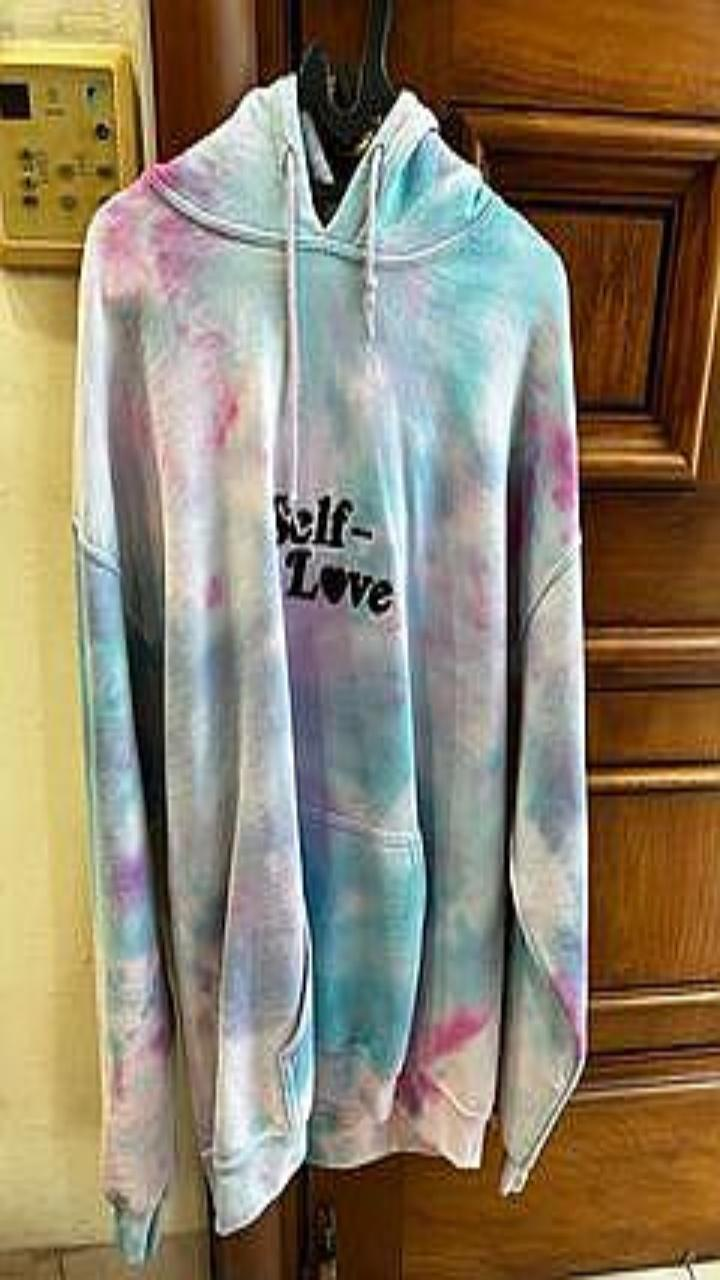Hoodie: (72, 74, 586, 1261)
